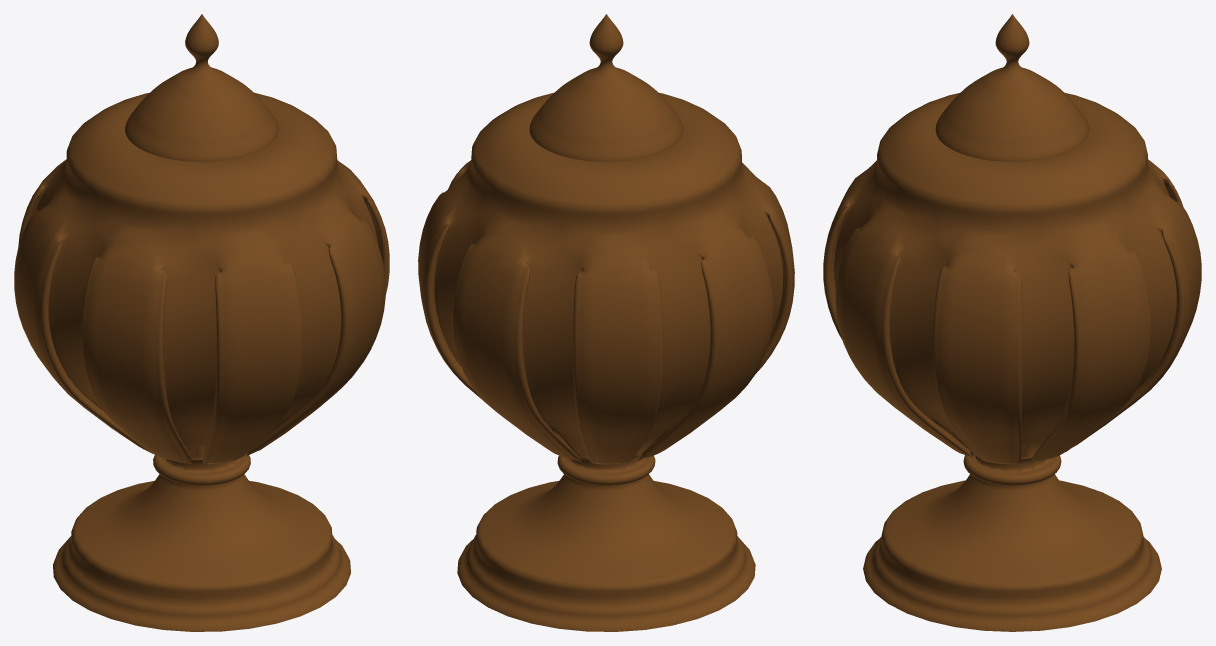
The model's file is Encens1.fbx.
3 views of the same model, side by side, from view 1: azimuth 30°, elevation 25°; view 2: azimuth 150°, elevation 25°; view 3: azimuth 270°, elevation 25° (orthographic).
Visible parts, largest first — view 1: base, top; view 2: base, top; view 3: base, top.
Boxes of the visible parts, <box> form: base: <box>14,92,389,631</box>; top: <box>125,14,278,161</box>; base: <box>418,93,794,631</box>; top: <box>529,14,683,161</box>; base: <box>823,93,1201,631</box>; top: <box>935,14,1089,161</box>.
Size of the model in its own units: 157 by 256 by 157.
